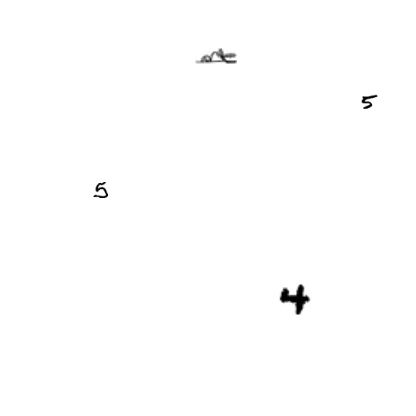4: (274, 277, 316, 319)
5: (357, 90, 379, 112), (90, 179, 112, 201)
Sandal: (195, 35, 237, 77)
